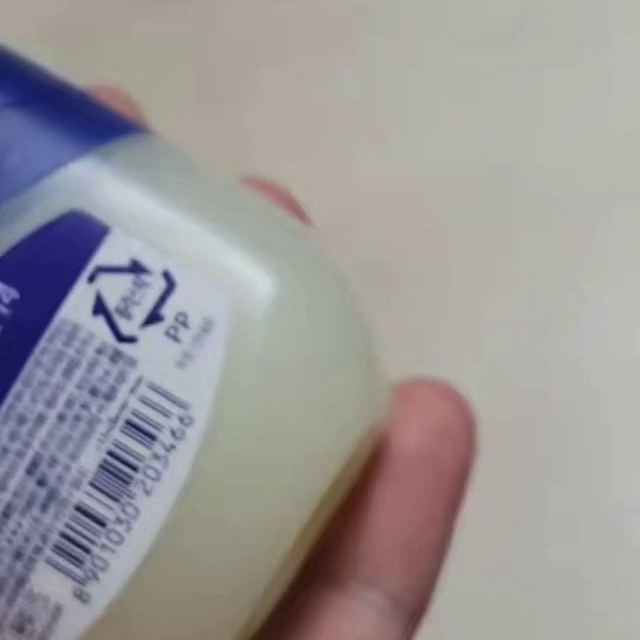Plastic: (87, 255, 179, 343)
